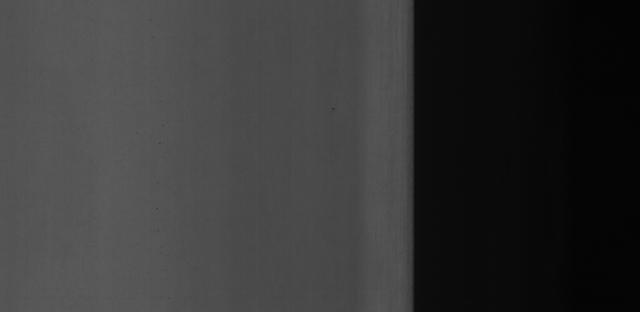inclusion: (326, 104, 340, 116)
